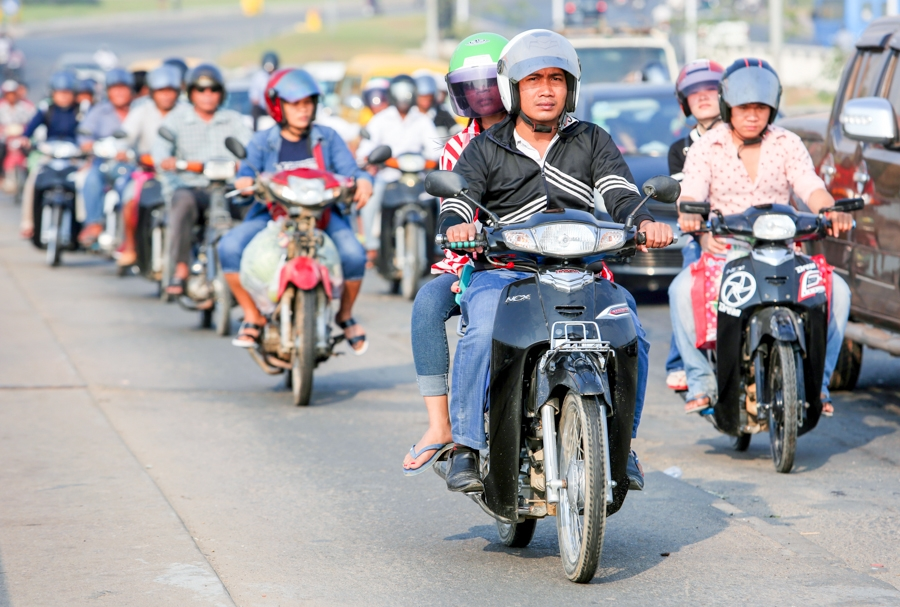helmet: (472, 21, 652, 428), (235, 57, 361, 360), (702, 59, 834, 323)
